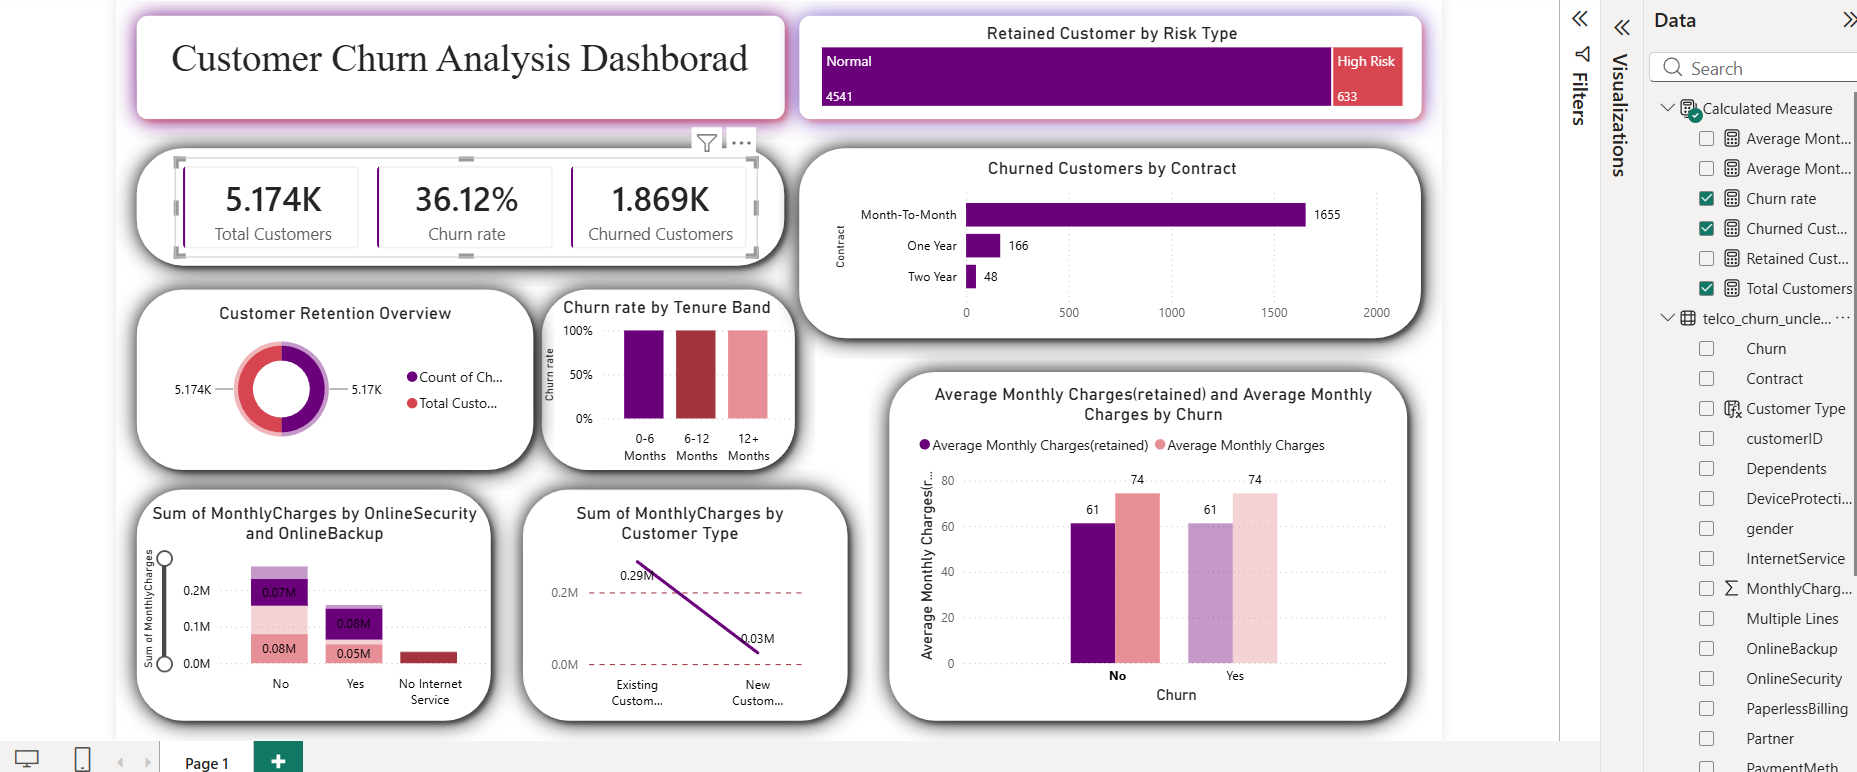

The dashboard page shown, as its layout file describes it:
{"tool":"powerbi","page":{"name":"Page 1","canvas":[1280,720],"ordinal":0},"visuals":[{"type":"shape","box":[373.3,456.7,353.3,263.3],"z":0},{"type":"shape","box":[726.7,343.3,540,376.7],"z":1000},{"type":"shape","box":[391.4,264.3,284.3,214.3],"z":2000},{"type":"shape","box":[0,264.3,422.9,214.3],"z":3000},{"type":"shape","box":[0,128.3,665,153.3],"z":3500},{"type":"shape","box":[0,456.7,381.7,263.3],"z":4000},{"type":"shape","box":[640,128.3,640,223.3],"z":6000},{"type":"shape","box":[0,0,665.5,140],"z":7000},{"type":"textbox","box":[48,34.3,570.8,71.4],"z":8000},{"type":"shape","box":[639.5,0,640.8,140],"z":9000},{"type":"treemap","fields":{"Values":["Calculated Measure.Retained Customer"],"Group":["telco_churn_unclean.Risk Type"]},"box":[675.1,26.1,572.2,86.4],"z":10000},{"type":"cardVisual","fields":{"Data":["Calculated Measure.Total Customers","Calculated Measure.Churn rate","Calculated Measure.Churned Customers"]},"box":[56.9,156.9,561.5,96.2],"z":11000},{"type":"barChart","fields":{"Category":["telco_churn_unclean.Contract"],"Y":["Calculated Measure.Churned Customers"]},"box":[688.6,157.1,545.7,168.6],"z":12000},{"type":"donutChart","title":"Customer Retention Overview","fields":{"Y":["CountNonNull(telco_churn_unclean.Churn)","Calculated Measure.Total Customers"]},"box":[35.5,296.4,353.6,148.2],"z":13000},{"type":"columnChart","fields":{"Category":["telco_churn_unclean.OnlineSecurity"],"Y":["Sum(telco_churn_unclean.MonthlyCharges)"],"Series":["telco_churn_unclean.OnlineBackup"]},"box":[17.5,490,347.5,206.2],"z":14000},{"type":"hundredPercentStackedColumnChart","fields":{"Y":["Calculated Measure.Churn rate"],"Category":["telco_churn_unclean.Tenure Band"]},"box":[408.3,290.8,248.3,169.2],"z":15000},{"type":"clusteredColumnChart","fields":{"Y":["Calculated Measure.Average Monthly Charges(retained)","Calculated Measure.Average Monthly Charges"],"Category":["telco_churn_unclean.Churn"]},"box":[770,375,463.3,313.3],"z":16000},{"type":"lineChart","fields":{"Category":["telco_churn_unclean.Customer Type"],"Y":["Sum(telco_churn_unclean.MonthlyCharges)"]},"box":[414.3,490,261.4,207.1],"z":17000}]}

Visuals, with their boxes in screenshot pixels (x1, y1, x2, y2):
shape: <bbox>483, 452, 844, 721</bbox>
shape: <bbox>844, 336, 1396, 721</bbox>
shape: <bbox>502, 256, 792, 475</bbox>
shape: <bbox>102, 256, 534, 475</bbox>
shape: <bbox>102, 117, 781, 273</bbox>
shape: <bbox>102, 452, 492, 721</bbox>
shape: <bbox>756, 117, 1410, 345</bbox>
shape: <bbox>102, 0, 782, 129</bbox>
textbox: <bbox>151, 21, 734, 94</bbox>
shape: <bbox>755, 0, 1410, 129</bbox>
treemap - Calculated Measure.Retained Customer x telco_churn_unclean.Risk Type: <bbox>792, 12, 1377, 100</bbox>
cardVisual - Calculated Measure.Total Customers x Calculated Measure.Churn rate: <bbox>160, 146, 734, 244</bbox>
barChart - telco_churn_unclean.Contract x Calculated Measure.Churned Customers: <bbox>805, 146, 1363, 318</bbox>
"Customer Retention Overview" donutChart: <bbox>138, 288, 499, 440</bbox>
columnChart - telco_churn_unclean.OnlineSecurity x Sum(telco_churn_unclean.MonthlyCharges): <bbox>119, 486, 475, 697</bbox>
hundredPercentStackedColumnChart - Calculated Measure.Churn rate x telco_churn_unclean.Tenure Band: <bbox>519, 283, 773, 456</bbox>
clusteredColumnChart - Calculated Measure.Average Monthly Charges(retained) x Calculated Measure.Average Monthly Charges: <bbox>889, 369, 1362, 689</bbox>
lineChart - telco_churn_unclean.Customer Type x Sum(telco_churn_unclean.MonthlyCharges): <bbox>525, 486, 792, 698</bbox>
